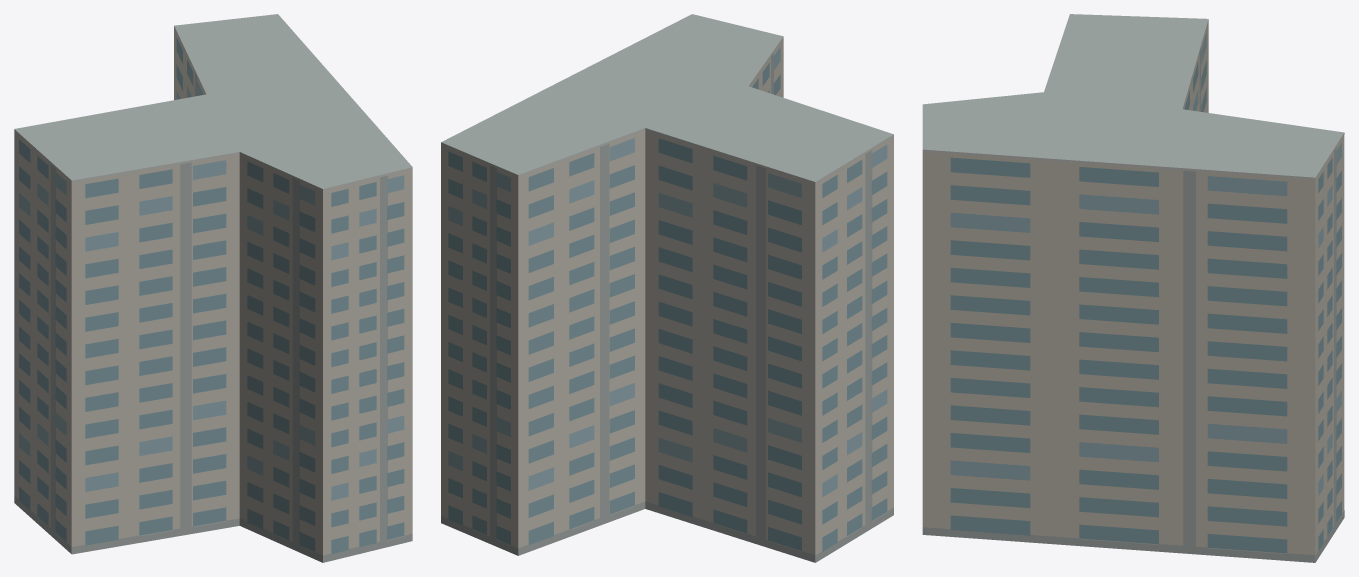
The model's file is residential-e9f1eb3f-e6de-4aa3-a449-2062a6c67c9b.glb.
The picture shows the model from 3 angles, left to right: view 1: azimuth 30°, elevation 25°; view 2: azimuth 150°, elevation 25°; view 3: azimuth 270°, elevation 25°; orthographic projection. The views are drawn at different scales.
Visible parts, largest first — view 1: residential-e9f1eb3f-e6de-4aa3-a449-2062a6c67c9b.tmp; view 2: residential-e9f1eb3f-e6de-4aa3-a449-2062a6c67c9b.tmp; view 3: residential-e9f1eb3f-e6de-4aa3-a449-2062a6c67c9b.tmp.
Part boxes in pixels (bbox=[...]): residential-e9f1eb3f-e6de-4aa3-a449-2062a6c67c9b.tmp: bbox=[14, 14, 412, 562]; residential-e9f1eb3f-e6de-4aa3-a449-2062a6c67c9b.tmp: bbox=[441, 14, 893, 562]; residential-e9f1eb3f-e6de-4aa3-a449-2062a6c67c9b.tmp: bbox=[922, 14, 1344, 562].
Bounding box in the file's own units: 36.44 × 40 × 39.71.
